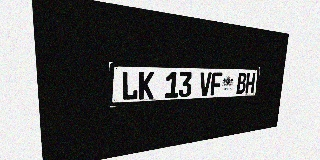1: (165, 72, 179, 98)
3: (178, 72, 192, 97)
B: (236, 73, 247, 94)
F: (210, 72, 222, 96)
H: (245, 73, 255, 94)
K: (138, 71, 154, 100)
L: (122, 71, 138, 101)
V: (199, 72, 212, 96)
